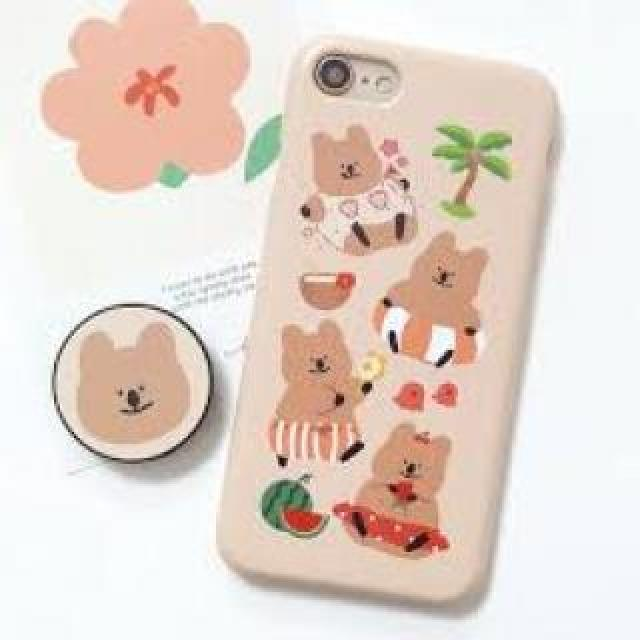smart phone: (247, 32, 543, 613)
